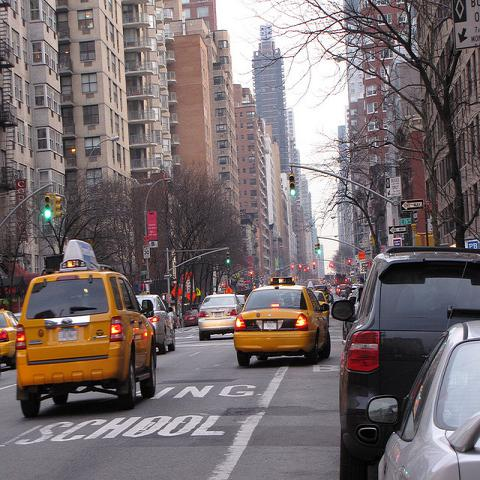car: (335, 249, 479, 472), (15, 238, 156, 420), (378, 319, 479, 479), (232, 276, 332, 368), (136, 293, 178, 352), (197, 294, 243, 342), (0, 307, 17, 372), (308, 280, 330, 325), (184, 309, 200, 326)
